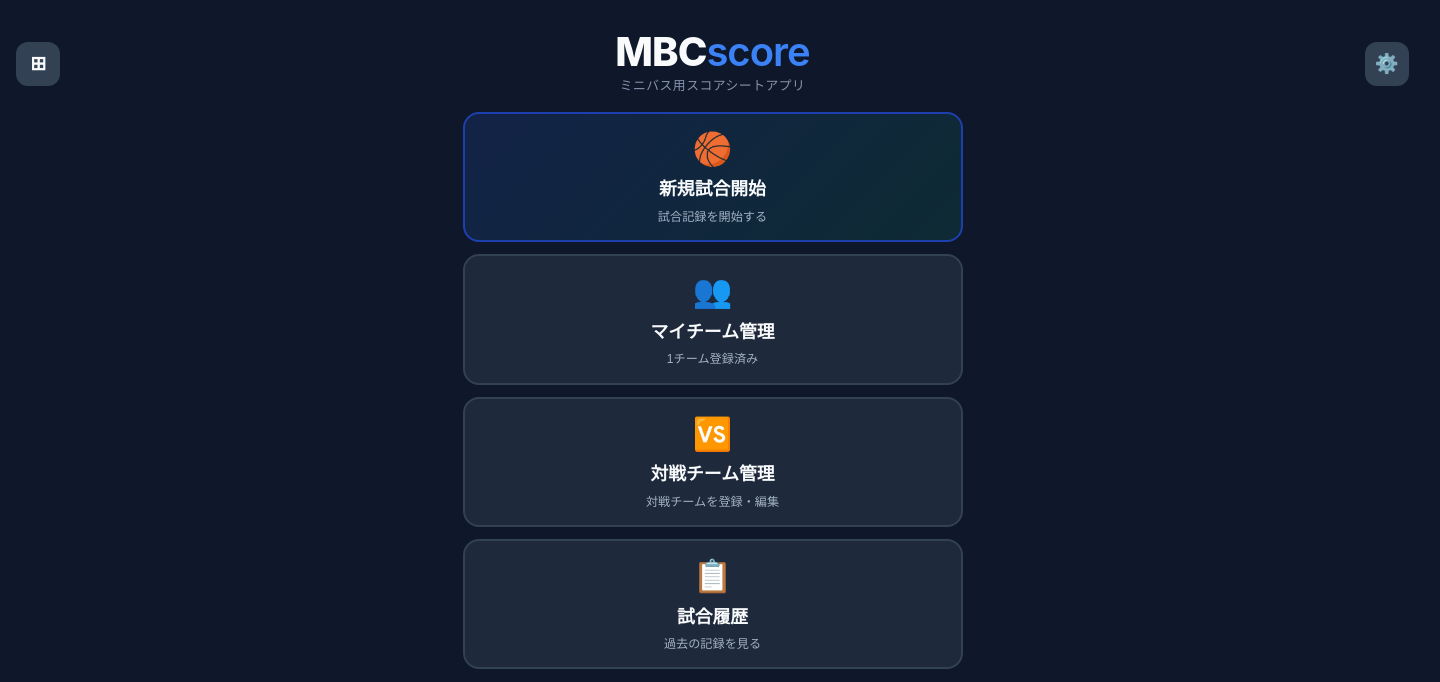
Scenario: App: ブラウザ履歴と画面遷移の同期 › アプリ内の戻るボタンで積んだ履歴エントリがポップされ、スタックが増え続けない
Click the text "マイチーム管理": (712, 330) x1=650 y1=317 x2=775 y2=343
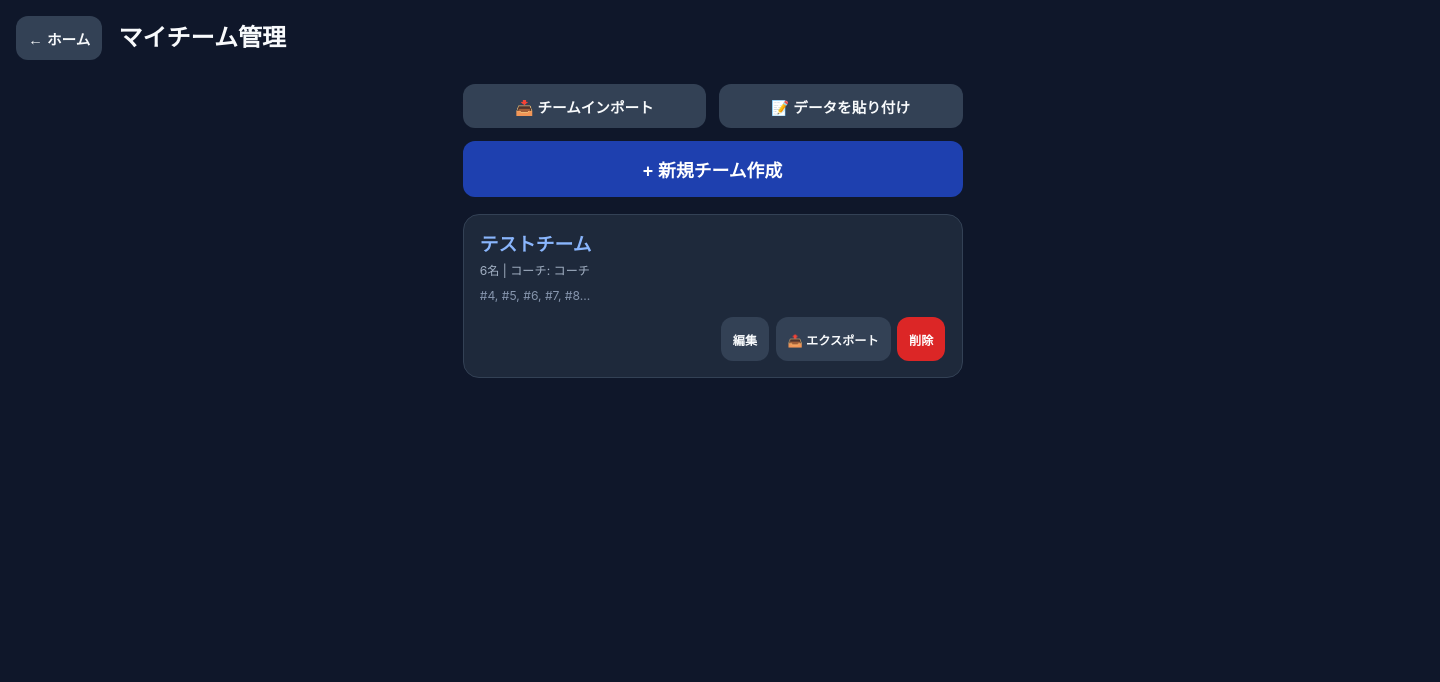
Expected: the button "+ 新規チーム作成" is shown, x1=462 y1=141 x2=962 y2=197
// 画面ごと抜ける戻るは行き先を名乗る（ホームへ帰る画面はどれも「← ホーム」）
Click the button "← ホーム": (59, 38) x1=16 y1=16 x2=102 y2=60
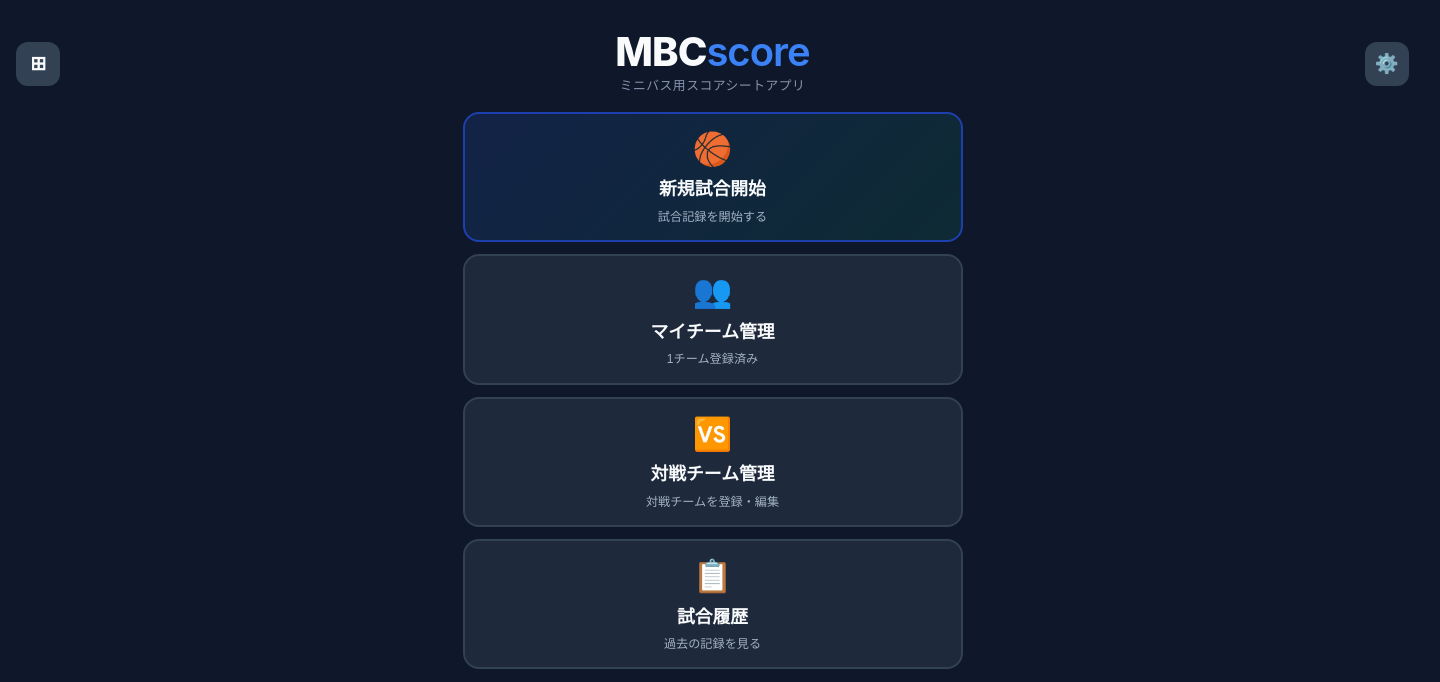
Expected: the text "新規試合開始" is shown, x1=659 y1=174 x2=766 y2=200
